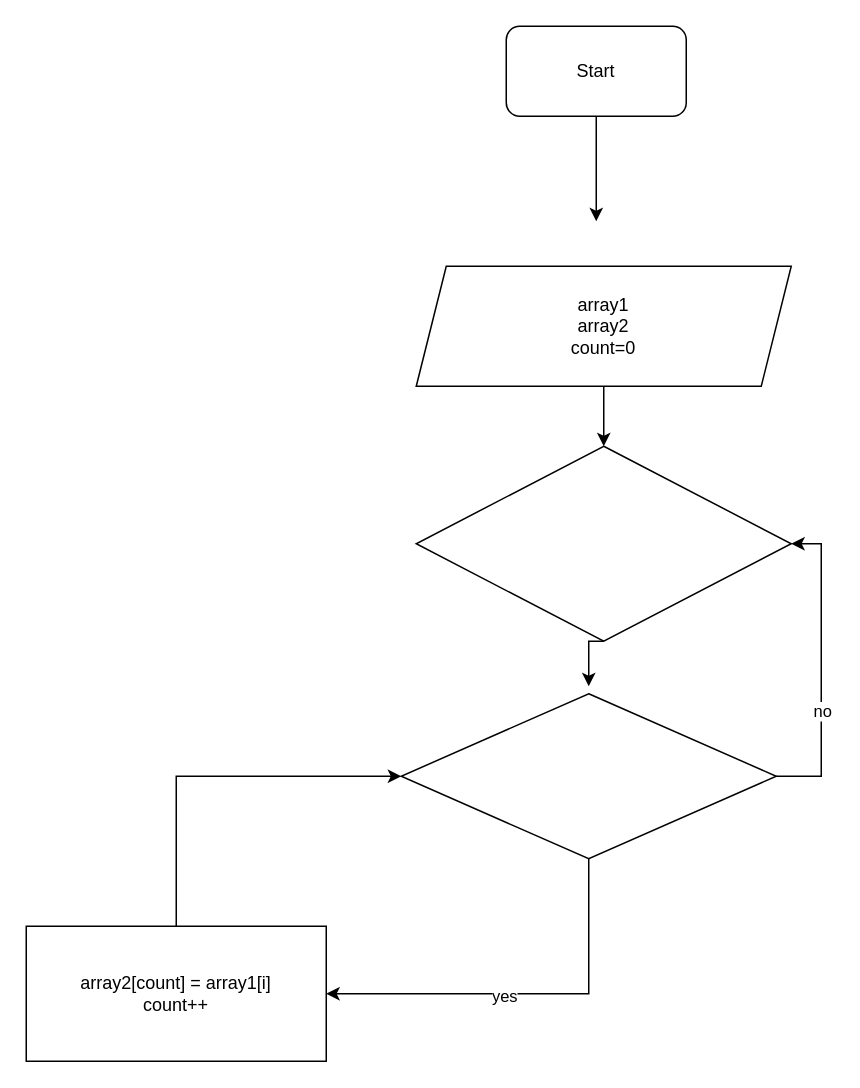
The diagram is 860 pixels wide and 1088 high, and some of its shapes have lost their labels. The centre of each missing label's shape, as x and y in pixels:
for(array1.length) i++: point 603,543
if array1[i].length <=3: point 588,775
